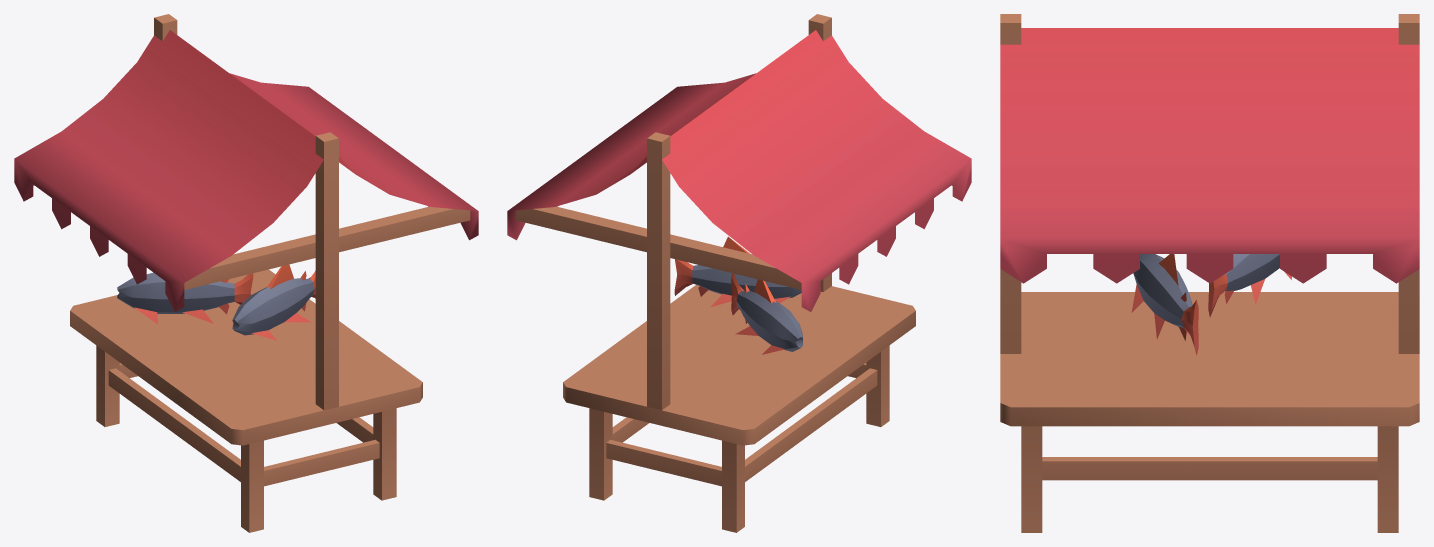
Rendered from fish_stall.glb.
3 views of the same model, side by side, from view 1: azimuth 30°, elevation 25°; view 2: azimuth 150°, elevation 25°; view 3: azimuth 270°, elevation 25° (orthographic). The views are drawn at different scales.
Visible parts, largest first — view 1: stall-red, fish-large; view 2: stall-red, fish-large; view 3: stall-red, fish-large.
Part boxes in pixels (x1,y1,x2,y2): stall-red: [14, 14, 478, 532]; fish-large: [117, 264, 315, 340]; stall-red: [507, 14, 971, 532]; fish-large: [674, 236, 802, 354]; stall-red: [1000, 14, 1419, 532]; fish-large: [1131, 254, 1291, 355].
Bounding box in the file's own units: 1.8 × 2.23 × 1.8.
2 materials, 2 textured.
